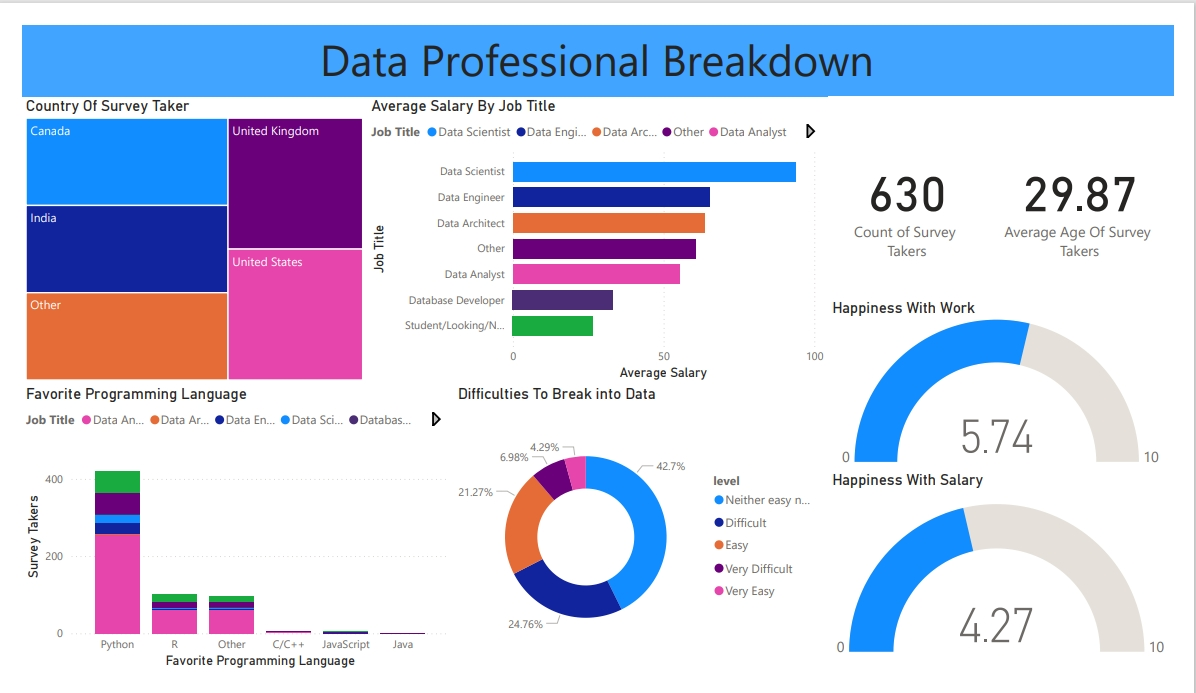

The dashboard page shown, as its layout file describes it:
{"tool":"powerbi","page":{"name":"Page 1","canvas":[1280,720],"ordinal":0},"visuals":[{"type":"textbox","box":[0,0,1280,80],"z":0},{"type":"card","fields":{"Values":["Count(Data Professional Survey.Unique ID)"]},"box":[896,80,176,224],"z":1},{"type":"card","fields":{"Values":["Avg(Data Professional Survey.Q10 - Current Age)"]},"box":[1072,80,208,224],"z":2},{"type":"barChart","title":"Average Salary By Job Title","fields":{"Y":["Avg(Data Professional Survey.Average Salary )"],"Category":["Data Professional Survey.Q1 - Which Title Best Fits your Current Role?.1"],"Series":["Data Professional Survey.Q1 - Which Title Best Fits your Current Role?.1"]},"box":[384,80,512,320],"z":3},{"type":"columnChart","title":"Favorite Programming Language","fields":{"Category":["Data Professional Survey.Q5 - Favorite Programming Language.1"],"Y":["CountNonNull(Data Professional Survey.Unique ID)"],"Series":["Data Professional Survey.Q1 - Which Title Best Fits your Current Role?.1"]},"box":[0,400,480,320],"z":4},{"type":"treemap","title":"Country Of Survey Taker","fields":{"Values":["Count(Data Professional Survey.Q11 - Which Country do you live in?.1)"],"Group":["Data Professional Survey.Q11 - Which Country do you live in?.1"]},"box":[0,80,384,320],"z":5},{"type":"gauge","title":"Happiness With Work","fields":{"Y":["Avg(Data Professional Survey.Q6 - How Happy are you in your Current Position with the following? (Work/Life Balance))"],"MinValue":["Min(Data Professional Survey.Q6 - How Happy are you in your Current Position with the following? (Work/Life Balance))1"],"MaxValue":["Max(Data Professional Survey.Q6 - How Happy are you in your Current Position with the following? (Work/Life Balance))2"]},"box":[896,304,384,192],"z":6},{"type":"gauge","title":"Happiness With Salary","fields":{"MinValue":["Min(Data Professional Survey.Q6 - How Happy are you in your Current Position with the following? (Salary))"],"MaxValue":["Max(Data Professional Survey.Q6 - How Happy are you in your Current Position with the following? (Salary))"],"Y":["Avg(Data Professional Survey.Q6 - How Happy are you in your Current Position with the following? (Salary))"]},"box":[896,496,384,224],"z":7},{"type":"donutChart","title":"Difficulties To Break into Data ","fields":{"Category":["Data Professional Survey.Q7 - How difficult was it for you to break into Data?"],"Y":["CountNonNull(Data Professional Survey.Q7 - How difficult was it for you to break into Data?)"]},"box":[480,400,416,320],"z":8}]}

Visuals, with their boxes in screenshot pixels (x1, y1, x2, y2), scaled from the page's 1280x720 canvas onto the 1196x693 screenshot:
textbox: (0, 0, 1195, 77)
card - Count(Data Professional Survey.Unique ID): (837, 77, 1002, 293)
card - Avg(Data Professional Survey.Q10 - Current Age): (1002, 77, 1195, 293)
"Average Salary By Job Title" barChart: (359, 77, 837, 385)
"Favorite Programming Language" columnChart: (0, 385, 448, 692)
"Country Of Survey Taker" treemap: (0, 77, 359, 385)
"Happiness With Work" gauge: (837, 293, 1195, 477)
"Happiness With Salary" gauge: (837, 477, 1195, 692)
"Difficulties To Break into Data " donutChart: (448, 385, 837, 692)
